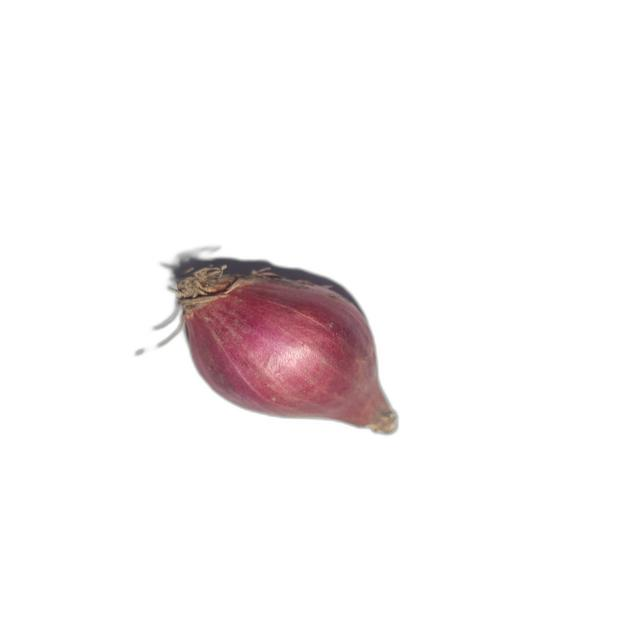onion: (155, 262, 399, 436)
